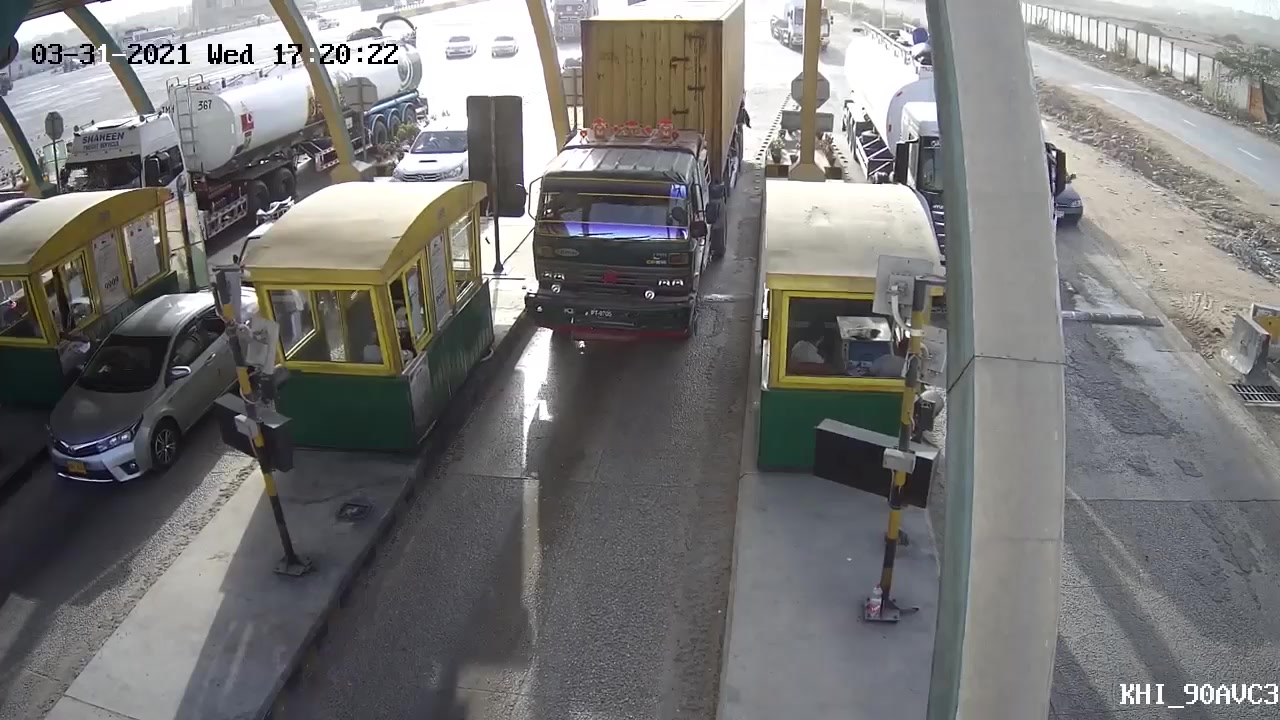F6: (512, 1, 755, 372)
